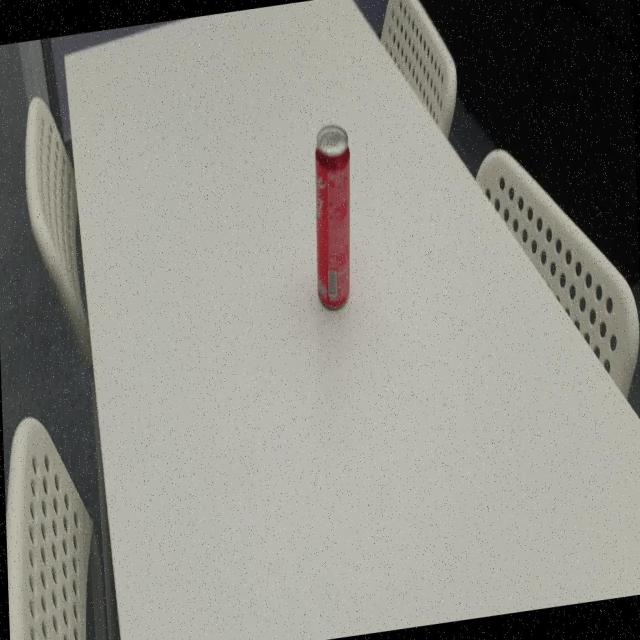coca-cola: (312, 118, 354, 316)
